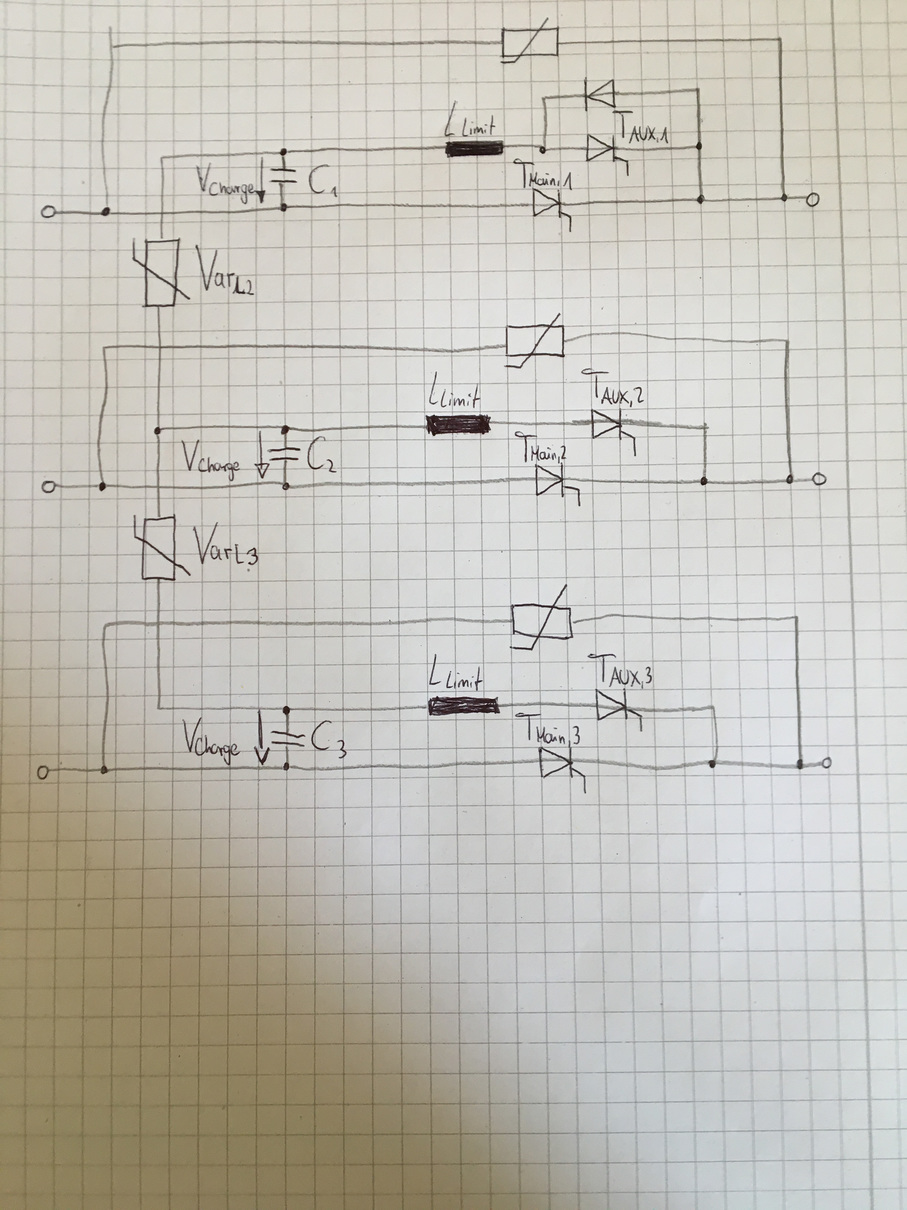capacitor.unpolarized: (269, 728, 307, 749), (267, 165, 300, 187), (266, 445, 302, 463)
crossover: (152, 340, 168, 354), (152, 480, 168, 492), (152, 616, 165, 629), (157, 207, 169, 218)
diode: (582, 75, 619, 113)
inductor: (424, 693, 503, 720), (422, 411, 493, 439), (444, 138, 506, 161)
junction: (697, 474, 712, 489), (98, 204, 114, 218), (777, 191, 792, 205), (784, 473, 798, 487), (536, 142, 550, 155), (95, 480, 110, 492), (694, 193, 708, 205), (693, 139, 705, 153), (774, 33, 787, 45), (279, 423, 291, 436), (280, 479, 292, 492), (280, 704, 293, 716), (707, 757, 719, 770), (781, 336, 795, 347), (699, 420, 711, 432), (100, 621, 112, 633), (277, 201, 289, 213), (795, 758, 806, 771), (282, 760, 292, 773), (277, 147, 290, 157), (693, 84, 704, 95), (99, 764, 109, 776), (539, 93, 549, 104), (107, 42, 118, 52), (153, 425, 163, 436), (708, 703, 719, 713), (158, 153, 167, 163), (792, 612, 801, 622), (155, 704, 164, 713), (100, 344, 109, 351)
terminal: (35, 763, 52, 781), (804, 191, 821, 208), (810, 470, 828, 486), (40, 203, 58, 219), (40, 479, 58, 494), (820, 755, 833, 770)
text: (193, 241, 256, 297), (192, 520, 260, 567), (180, 715, 241, 766), (180, 437, 242, 483), (580, 366, 645, 408), (195, 160, 255, 205), (586, 651, 654, 690), (514, 710, 582, 748), (427, 652, 486, 693), (426, 369, 483, 410), (512, 157, 574, 192), (611, 109, 671, 145), (442, 100, 498, 138), (513, 429, 569, 464), (309, 718, 349, 760), (305, 434, 339, 476), (306, 162, 339, 200)
thyristor: (537, 747, 589, 792), (589, 407, 639, 453), (593, 687, 644, 729), (533, 462, 583, 501), (531, 186, 575, 230), (585, 132, 630, 171)
varistor: (507, 582, 576, 652), (130, 236, 192, 310), (132, 512, 193, 583), (502, 310, 567, 371), (498, 15, 562, 66)
